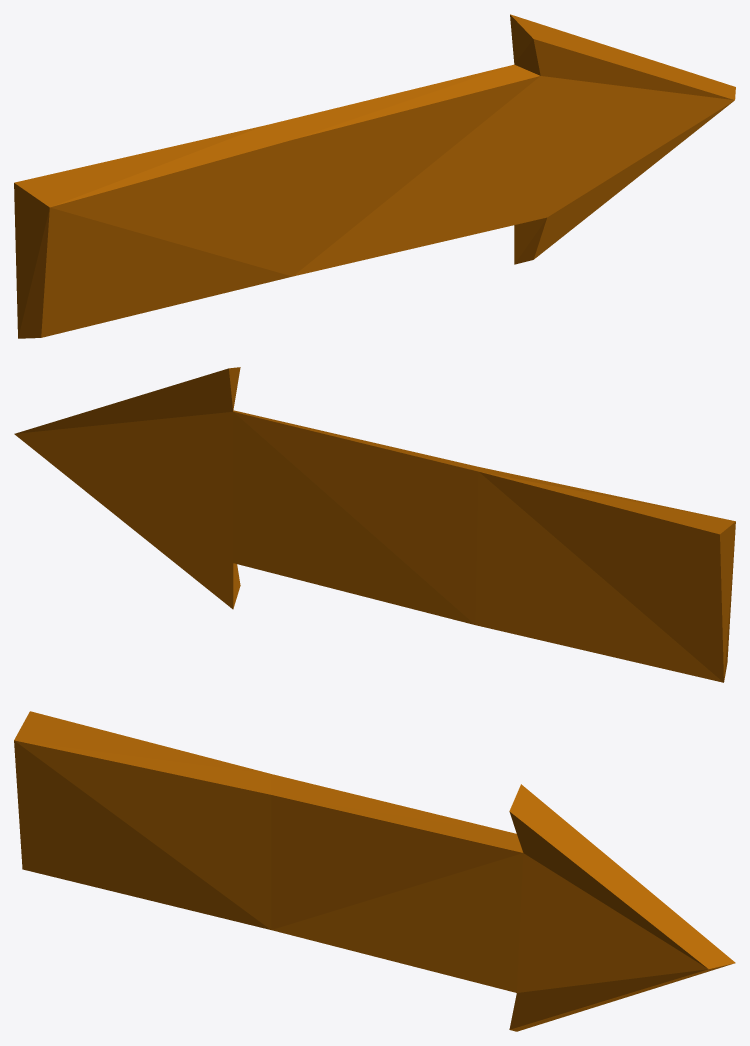
Rendered from Sign_5.fbx.
3 renders of one model, top to bottom at view 1: azimuth 30°, elevation 25°; view 2: azimuth 150°, elevation 25°; view 3: azimuth 330°, elevation 25°, orthographic.
Parts seen in each view (by area): view 1: Sign_5; view 2: Sign_5; view 3: Sign_5.
Boxes of the visible parts, x1=… form: Sign_5: x1=14, y1=14, x2=735, y2=338; Sign_5: x1=14, y1=367, x2=735, y2=682; Sign_5: x1=14, y1=711, x2=735, y2=1031.
Bounding box in the file's own units: 271 × 89.21 × 17.23.
